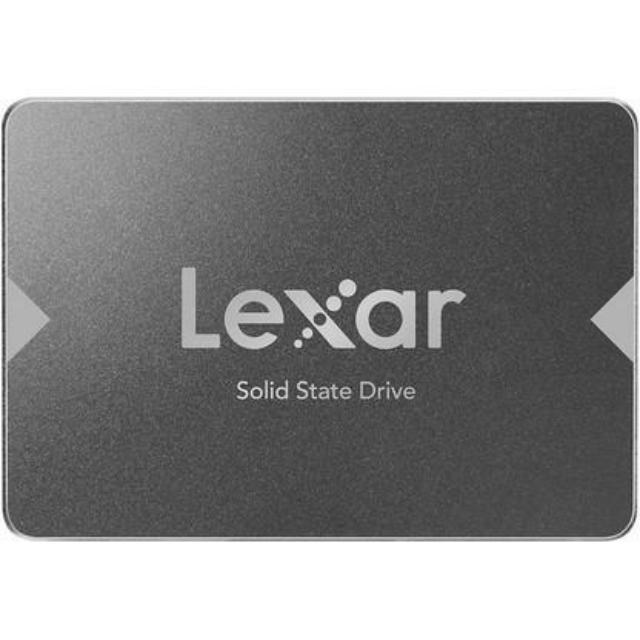DISK: (0, 98, 640, 544)
